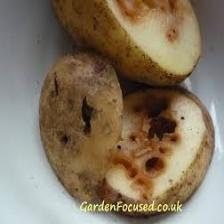Damaged potato: (41, 48, 208, 217), (46, 0, 207, 88)
